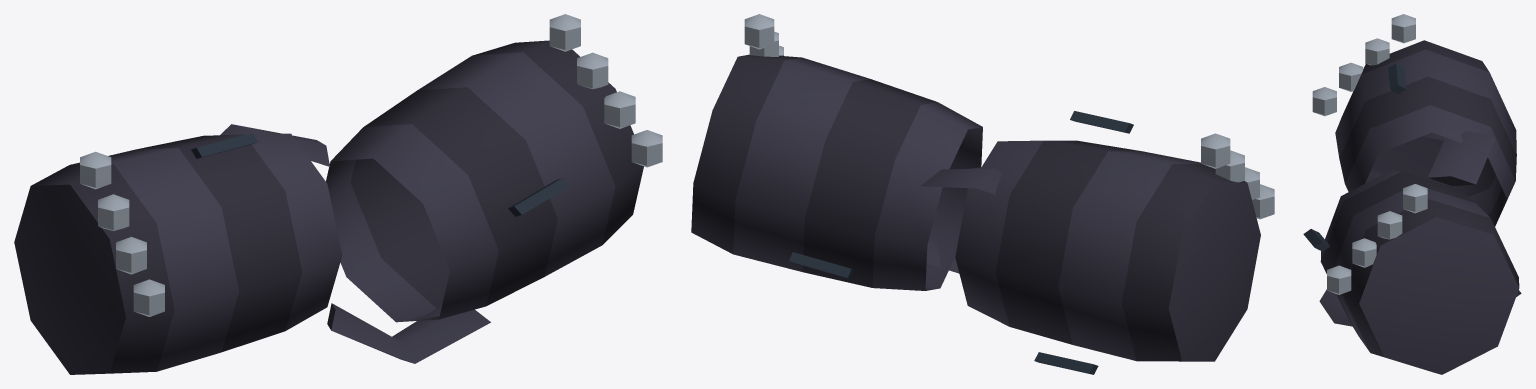
The model's file is handwraps-rune.glb.
3 views of the same model, side by side, from view 1: azimuth 30°, elevation 25°; view 2: azimuth 150°, elevation 25°; view 3: azimuth 270°, elevation 25° (orthographic). The views are drawn at different scales.
Visible parts, largest first — view 1: handwraps-rune, OffHand; view 2: handwraps-rune, OffHand; view 3: OffHand, handwraps-rune.
Part boxes in pixels (x1,y1,x2,y2): handwraps-rune: (14, 133, 490, 374); OffHand: (220, 14, 662, 322); handwraps-rune: (926, 111, 1274, 374); OffHand: (691, 14, 1001, 290); OffHand: (1303, 131, 1521, 374); handwraps-rune: (1312, 14, 1516, 326).
Size of the model in its own units: 0.2132 by 0.0998 by 0.0938.
